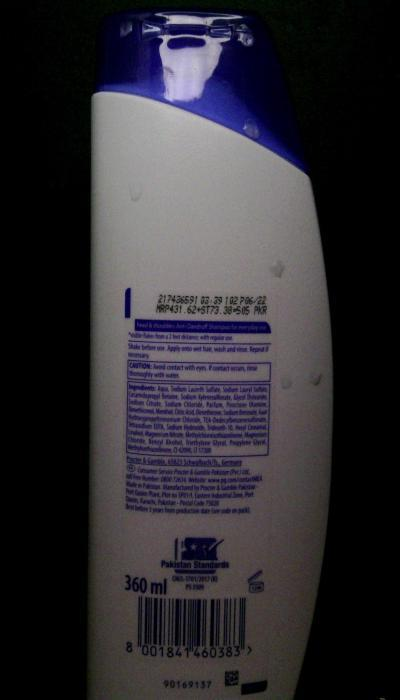pob_marg: (123, 178, 148, 212), (230, 26, 258, 54), (268, 254, 290, 287), (240, 117, 264, 144), (306, 365, 328, 394), (112, 18, 136, 44), (276, 371, 297, 397), (139, 18, 163, 40)
